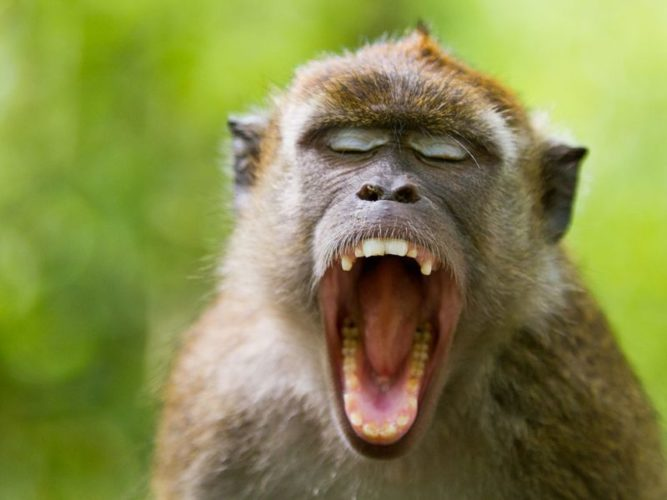monkey: (142, 26, 666, 493)
